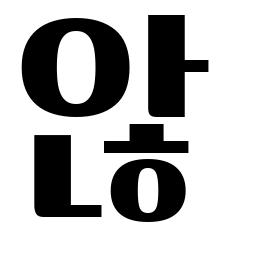Gaji: (141, 44, 195, 89)
